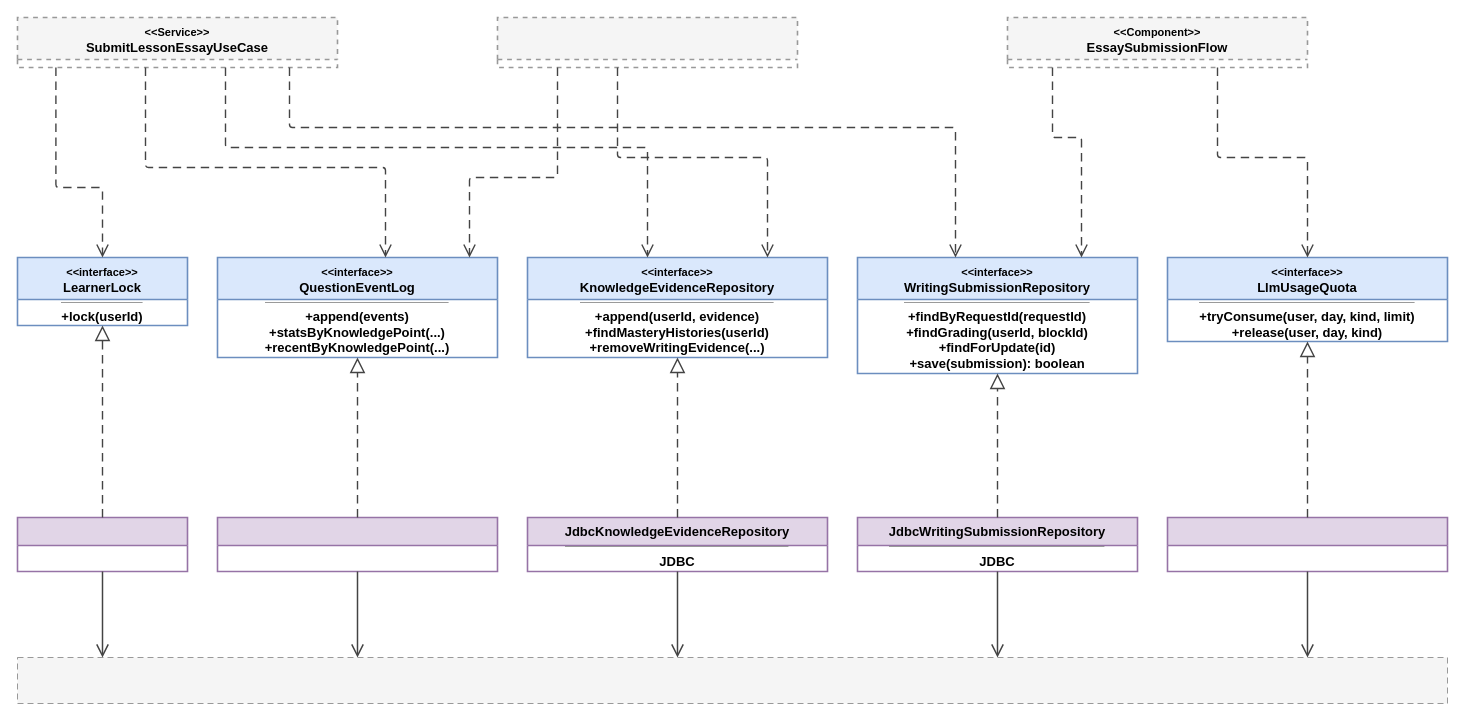
The diagram is 1466 pixels wide and 722 high, and some of its shapes have lost their labels. Here are the shapes that lost their labels. From the top down, the centre of each, then its label:
point (647, 42): <<Component>> MasteryProfileUpdater
point (102, 544): JdbcLearnerLock JDBC
point (357, 544): JdbcQuestionEventLog JDBC
point (1307, 544): JdbcLlmUsageQuota JDBC
point (732, 680): learning_db (PostgreSQL)
